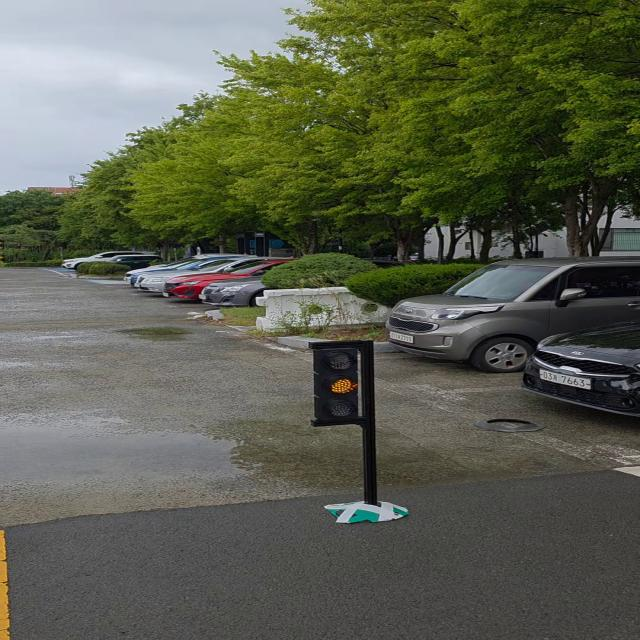yellow: (305, 342, 369, 428)
